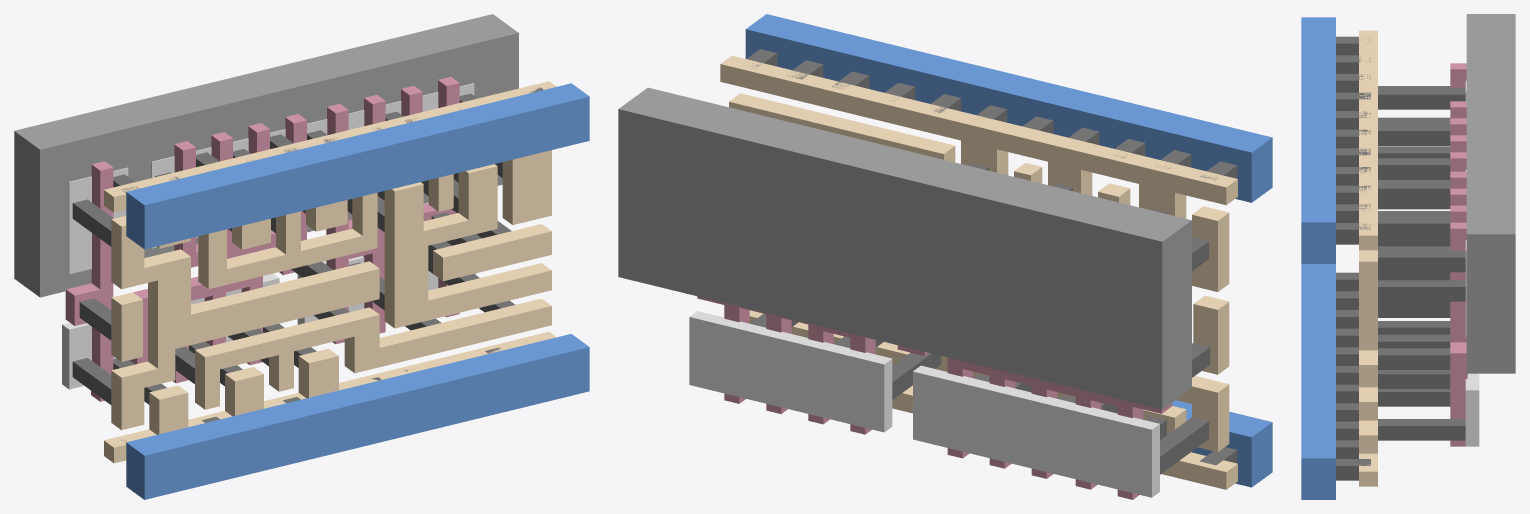
Rendered from sky130_fd_sc_hd__einvp_4.gds.gltf.
3 renders of one model, left to right at view 1: azimuth 30°, elevation 25°; view 2: azimuth 150°, elevation 25°; view 3: azimuth 270°, elevation 25°, orthographic. The views are drawn at different scales.
Visible parts, largest first — view 1: sky130_fd_sc_hd__einvp_4_li1, sky130_fd_sc_hd__einvp_4_met1, sky130_fd_sc_hd__einvp_4_nwell, sky130_fd_sc_hd__einvp_4_poly, sky130_fd_sc_hd__einvp_4_licon, sky130_fd_sc_hd__einvp_4_diff; view 2: sky130_fd_sc_hd__einvp_4_nwell, sky130_fd_sc_hd__einvp_4_li1, sky130_fd_sc_hd__einvp_4_diff, sky130_fd_sc_hd__einvp_4_met1, sky130_fd_sc_hd__einvp_4_poly, sky130_fd_sc_hd__einvp_4_licon, sky130_fd_sc_hd__einvp_4_mcon; view 3: sky130_fd_sc_hd__einvp_4_licon, sky130_fd_sc_hd__einvp_4_nwell, sky130_fd_sc_hd__einvp_4_met1, sky130_fd_sc_hd__einvp_4_mcon, sky130_fd_sc_hd__einvp_4_li1, sky130_fd_sc_hd__einvp_4_poly, sky130_fd_sc_hd__einvp_4_diff.
Boxes of the visible parts, x1,y1,x2,y2 form: sky130_fd_sc_hd__einvp_4_li1: (104, 81, 556, 463); sky130_fd_sc_hd__einvp_4_met1: (126, 83, 589, 499); sky130_fd_sc_hd__einvp_4_nwell: (14, 14, 518, 297); sky130_fd_sc_hd__einvp_4_poly: (65, 76, 459, 401); sky130_fd_sc_hd__einvp_4_licon: (72, 93, 515, 404); sky130_fd_sc_hd__einvp_4_diff: (62, 83, 476, 389); sky130_fd_sc_hd__einvp_4_nwell: (618, 87, 1191, 409); sky130_fd_sc_hd__einvp_4_li1: (720, 55, 1237, 489); sky130_fd_sc_hd__einvp_4_diff: (689, 311, 1159, 497); sky130_fd_sc_hd__einvp_4_met1: (745, 14, 1272, 487); sky130_fd_sc_hd__einvp_4_poly: (697, 296, 1172, 499); sky130_fd_sc_hd__einvp_4_licon: (750, 163, 1210, 474); sky130_fd_sc_hd__einvp_4_mcon: (747, 49, 1237, 465); sky130_fd_sc_hd__einvp_4_licon: (1378, 86, 1465, 440); sky130_fd_sc_hd__einvp_4_nwell: (1466, 14, 1515, 373); sky130_fd_sc_hd__einvp_4_met1: (1301, 17, 1335, 499); sky130_fd_sc_hd__einvp_4_mcon: (1336, 36, 1370, 480); sky130_fd_sc_hd__einvp_4_li1: (1359, 30, 1377, 486); sky130_fd_sc_hd__einvp_4_poly: (1450, 63, 1467, 446); sky130_fd_sc_hd__einvp_4_diff: (1465, 80, 1479, 446).
Size of the model in its own units: 5.44 by 3.2 by 2.24.
